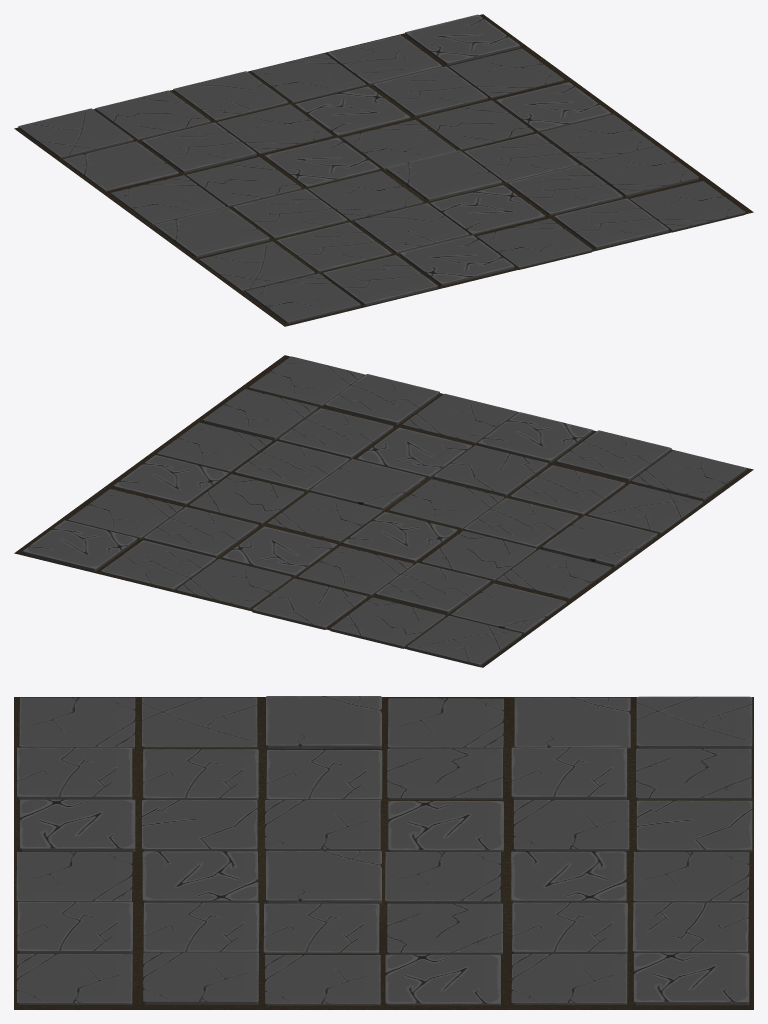
The model's file is floor2.fbx.
3 views of the same model, one above another, from view 1: azimuth 30°, elevation 25°; view 2: azimuth 150°, elevation 25°; view 3: azimuth 270°, elevation 25° (orthographic). The views are drawn at different scales.
Parts seen in each view (by area): view 1: Plane, Cube.021, Cube.012, Cube.033, Cube.003, Cube.002, Cube.028, Cube.031, Cube.024, Cube.035, Cube.027, Cube.006 (+25 smaller); view 2: Plane, Cube.012, Cube.021, Cube.002, Cube.003, Cube.033, Cube.028, Cube.031, Cube.024, Cube.006, Cube.004, Cube.005 (+25 smaller); view 3: Plane, Cube.003, Cube.024, Cube.033, Cube.002, Cube.006, Cube.012, Cube.021, Cube.031, Cube.004, Cube.030, Cube.020 (+25 smaller).
Boxes of the visible parts, x1,y1,x2,y2 form: Plane: [14, 14, 753, 326]; Cube.021: [386, 150, 501, 201]; Cube.012: [154, 207, 269, 258]; Cube.033: [399, 235, 514, 286]; Cube.003: [405, 14, 520, 65]; Cube.002: [141, 122, 256, 173]; Cube.028: [554, 198, 669, 249]; Cube.031: [584, 146, 698, 197]; Cube.024: [322, 255, 437, 305]; Cube.035: [477, 218, 591, 269]; Cube.027: [630, 181, 745, 232]; Cube.006: [18, 108, 133, 158]; Plane: [14, 355, 753, 667]; Cube.012: [542, 515, 657, 566]; Cube.021: [310, 459, 425, 510]; Cube.002: [375, 562, 490, 613]; Cube.003: [22, 520, 137, 571]; Cube.033: [477, 412, 592, 463]; Cube.028: [324, 374, 439, 424]; Cube.031: [202, 389, 317, 440]; Cube.024: [556, 430, 671, 481]; Cube.006: [407, 615, 522, 666]; Cube.004: [252, 578, 367, 629]; Cube.005: [330, 597, 445, 648]; Plane: [14, 697, 753, 1009]; Cube.003: [633, 953, 749, 1005]; Cube.024: [16, 747, 132, 799]; Cube.033: [19, 799, 135, 851]; Cube.002: [511, 747, 627, 799]; Cube.006: [636, 696, 752, 748]; Cube.012: [266, 696, 381, 748]; Cube.021: [266, 851, 381, 903]; Cube.031: [143, 952, 258, 1004]; Cube.004: [636, 800, 752, 851]; Cube.030: [142, 851, 258, 902]; Cube.020: [263, 903, 379, 954].
Size of the model in its own units: 4032 by 35.32 by 4032.
